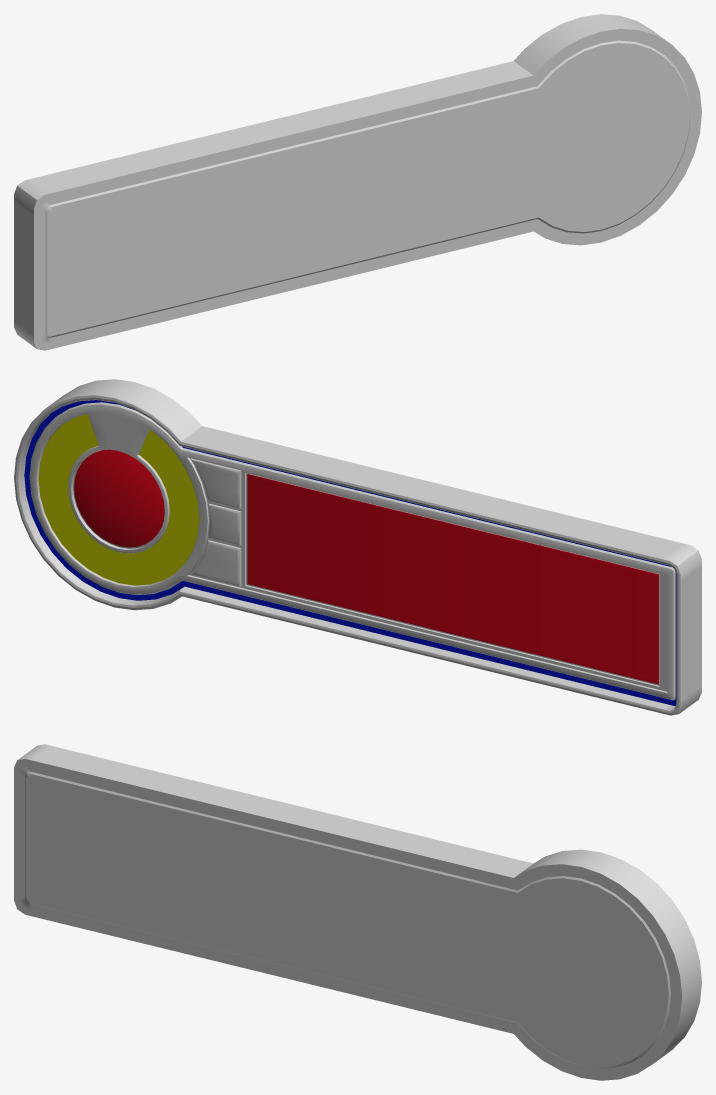
The model's file is tag.fbx.
3 renders of one model, top to bottom at view 1: azimuth 30°, elevation 25°; view 2: azimuth 150°, elevation 25°; view 3: azimuth 330°, elevation 25°, orthographic.
Visible parts, largest first — view 1: Cube; view 2: Cube; view 3: Cube.
Boxes of the visible parts, x1,y1,x2,y2 form: Cube: (14, 14, 701, 350); Cube: (14, 379, 701, 715); Cube: (14, 744, 701, 1080).
Size of the model in its own units: 0.6541 by 0.1975 by 0.0365.
